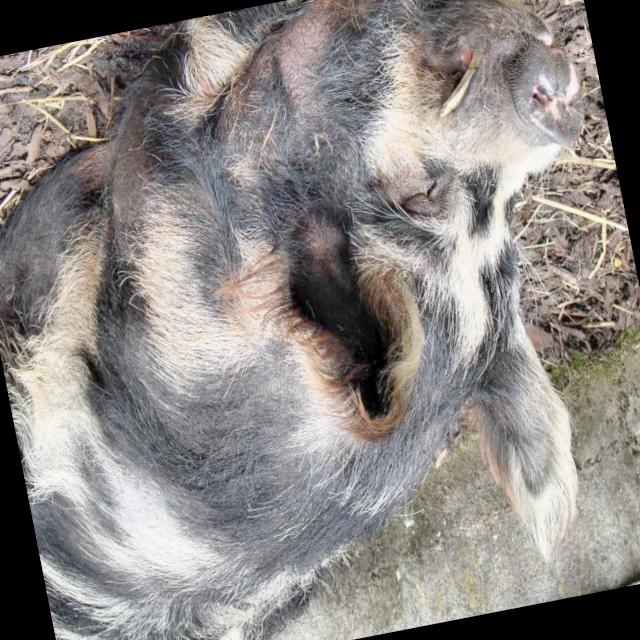pig: (0, 0, 583, 640)
